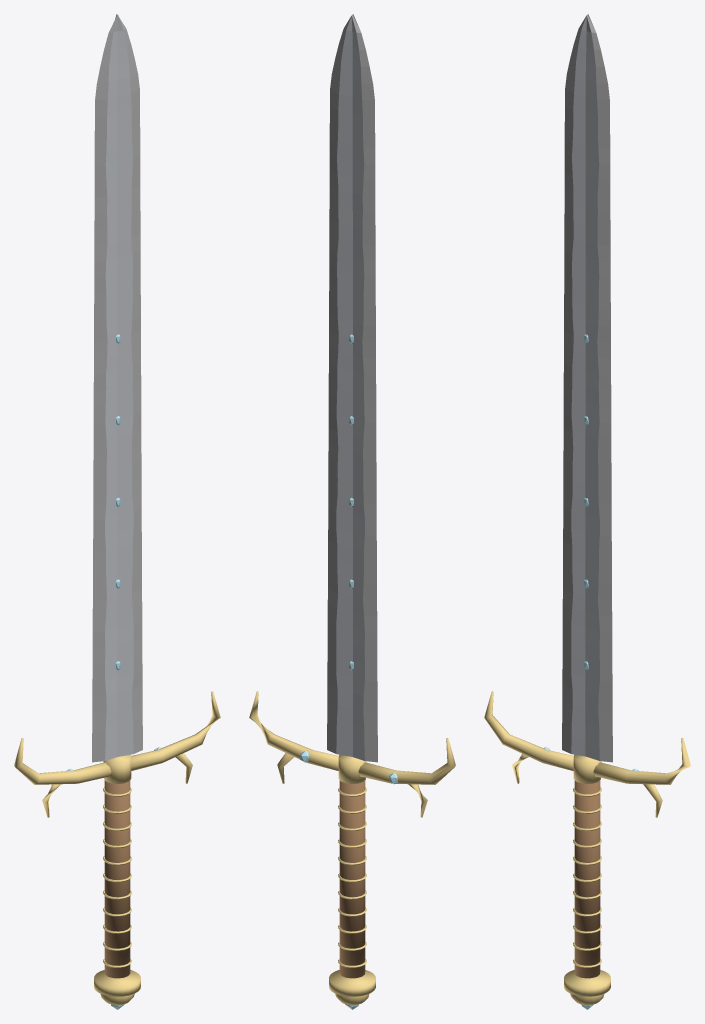
Rendered from w_zweihaender.glb.
3 renders of one model, left to right at view 1: azimuth 30°, elevation 25°; view 2: azimuth 150°, elevation 25°; view 3: azimuth 330°, elevation 25°, orthographic.
Visible parts, largest first — view 1: G_w_zweihaender; view 2: G_w_zweihaender; view 3: G_w_zweihaender.
Boxes of the visible parts, <box> form: G_w_zweihaender: <box>14,14,220,1009</box>; G_w_zweihaender: <box>249,14,455,1009</box>; G_w_zweihaender: <box>484,14,690,1009</box>.
Size of the model in its own units: 0.3423 by 1.58 by 0.068.
